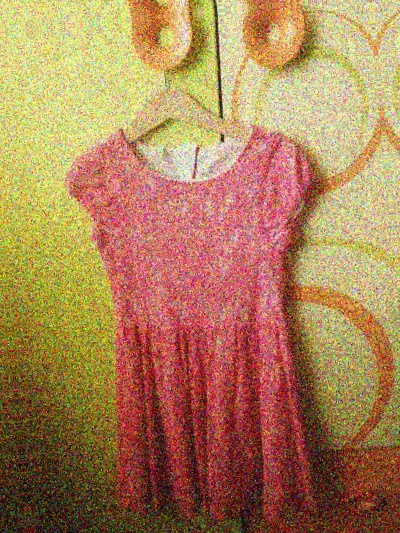Dress: (60, 79, 378, 533)
